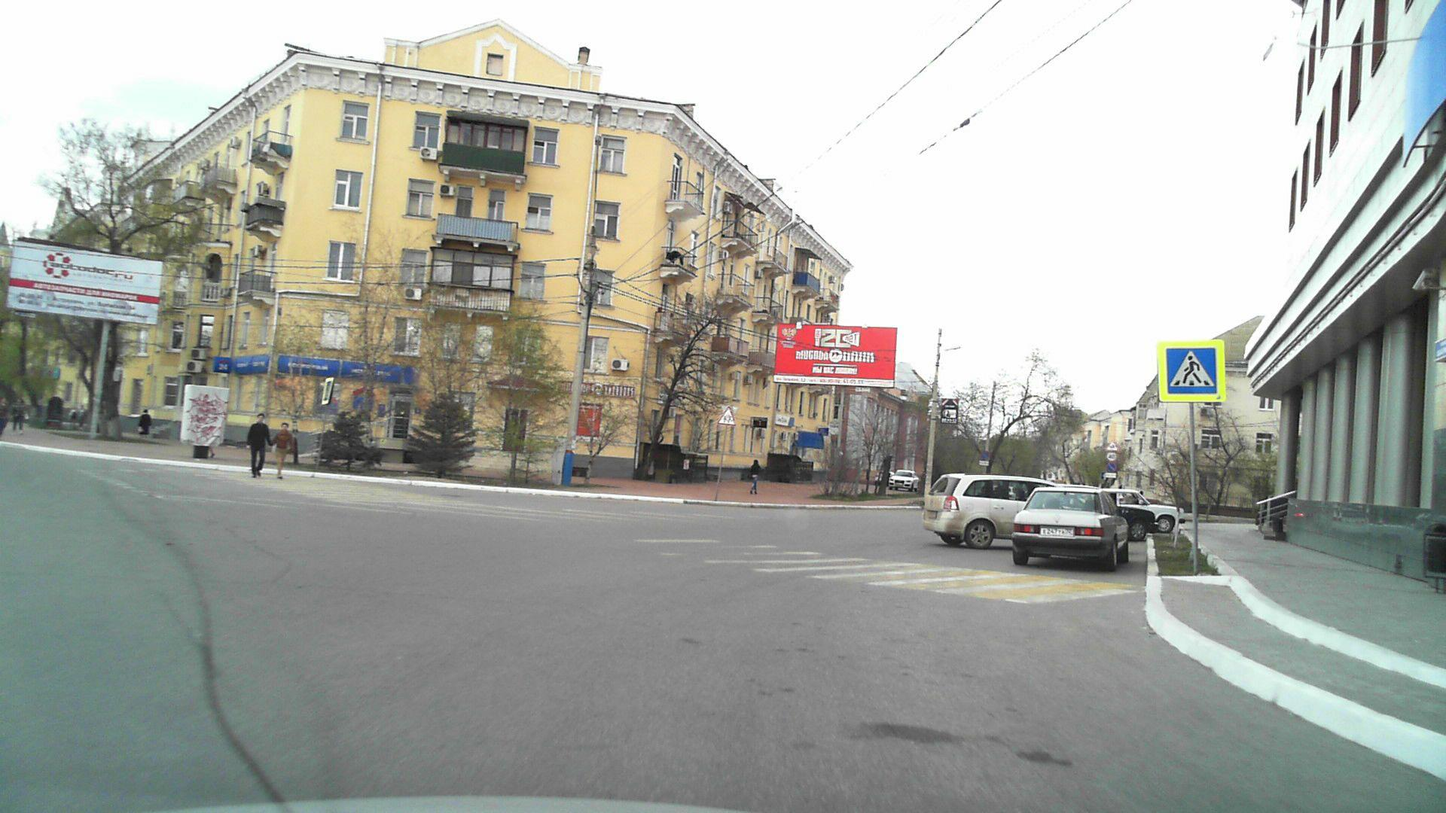road_sign: (1159, 341, 1226, 402), (717, 404, 737, 426)
